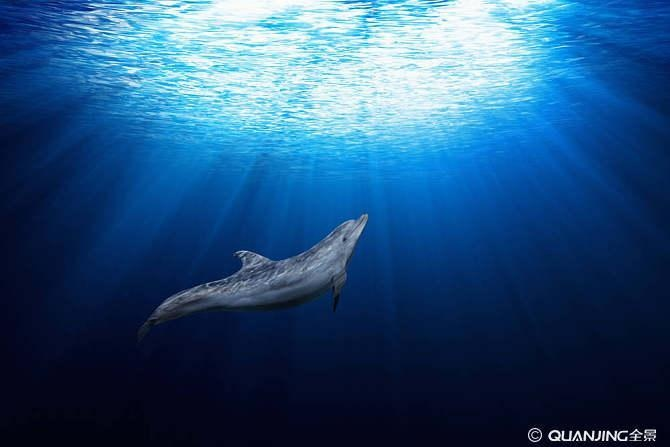fish: (133, 212, 369, 343)
